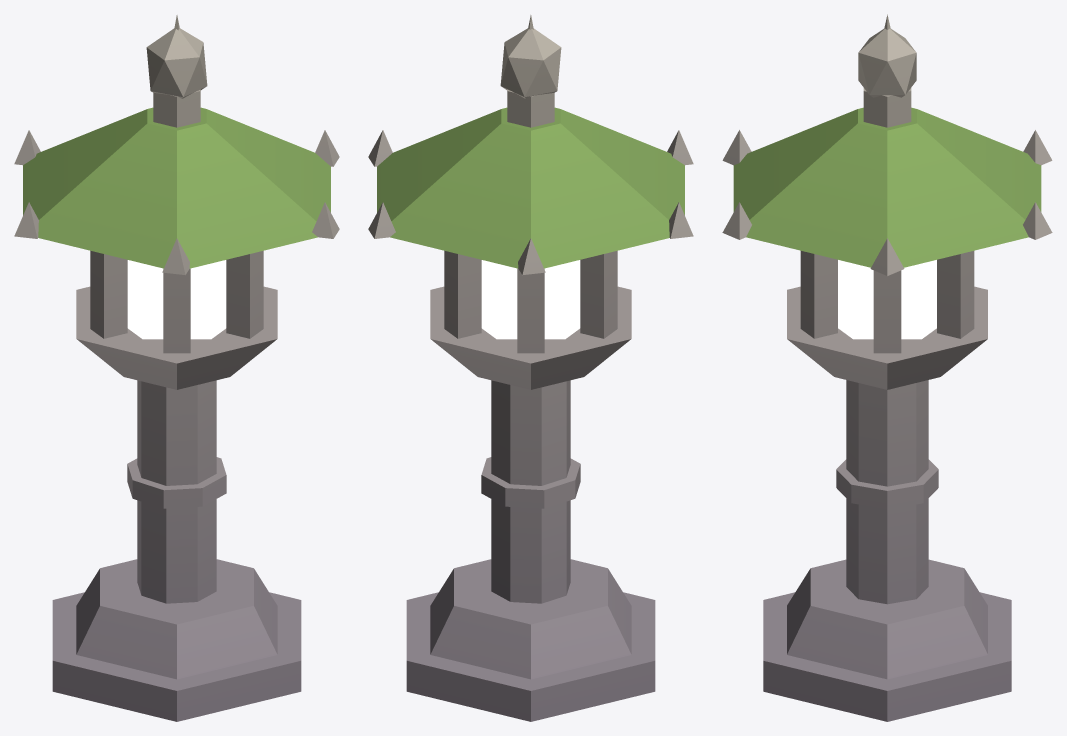
The model's file is stone_lantern.glb.
3 views of the same model, side by side, from view 1: azimuth 30°, elevation 25°; view 2: azimuth 150°, elevation 25°; view 3: azimuth 270°, elevation 25° (orthographic).
Visible parts, largest first — view 1: stone_lantern; view 2: stone_lantern; view 3: stone_lantern.
Boxes of the visible parts, bbox=[...] form: stone_lantern: bbox=[14, 15, 339, 721]; stone_lantern: bbox=[368, 15, 693, 721]; stone_lantern: bbox=[722, 14, 1052, 721].
Size of the model in its own units: 1.1 by 2.09 by 0.966.
